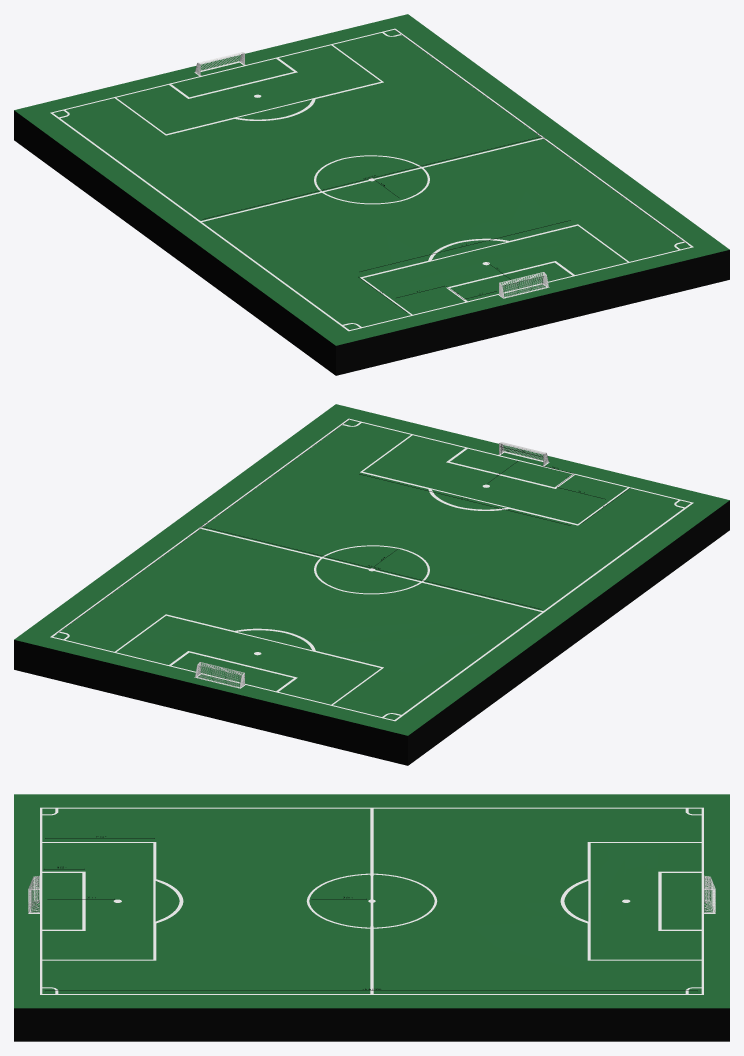
File: soccer.fbx
3 views of the same model, one above another, from view 1: azimuth 30°, elevation 25°; view 2: azimuth 150°, elevation 25°; view 3: azimuth 270°, elevation 25° (orthographic). The views are drawn at different scales.
Visible parts, largest first — view 1: Cube, goal; view 2: Cube, goal; view 3: Cube, goal, Plane.006.
Part boxes in pixels (x1,y1,x2,y2): Cube: [14, 14, 729, 375]; goal: [195, 52, 548, 298]; Cube: [14, 404, 729, 765]; goal: [195, 442, 548, 688]; Cube: [14, 794, 729, 1041]; goal: [28, 875, 715, 913]; Plane.006: [45, 990, 697, 990].
Size of the model in its own units: 22364 by 2286 by 31651.
